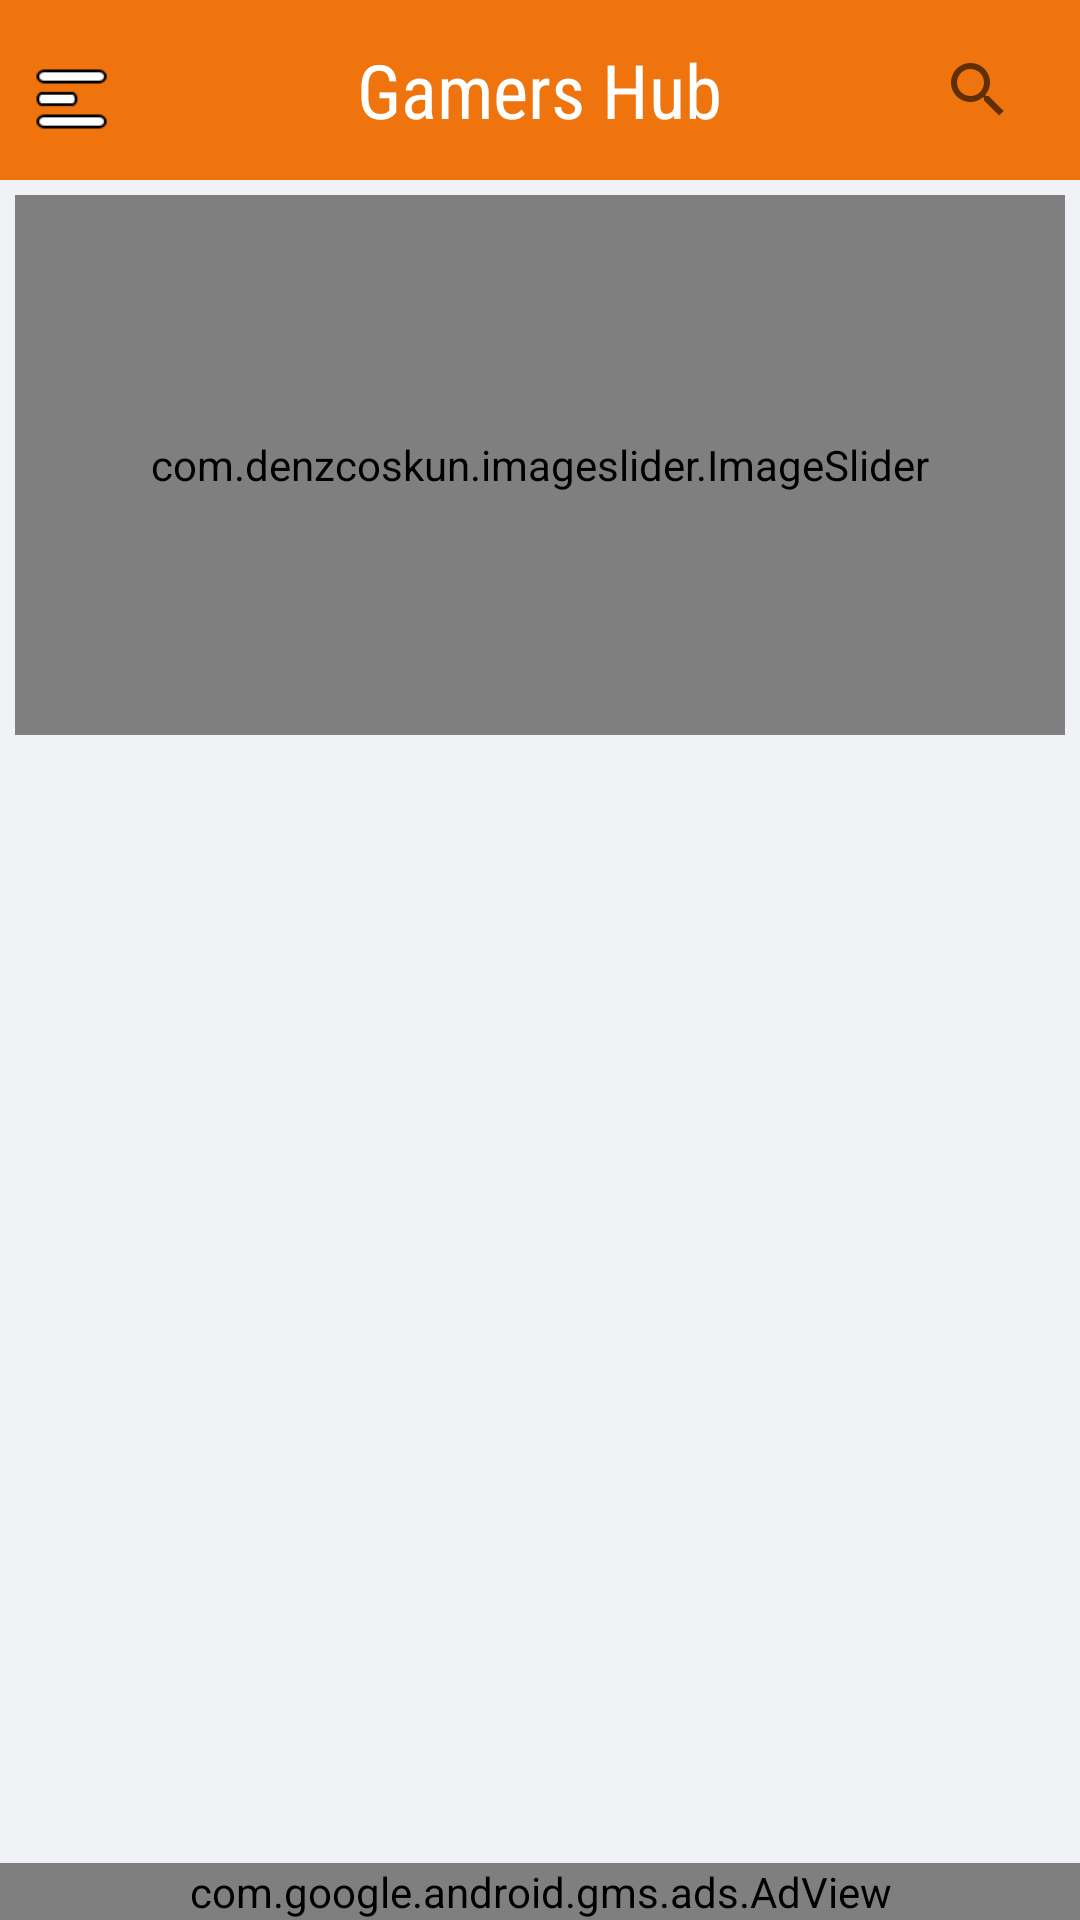

Icons on this 1080px x 1920px Android screen, each with its box as (x1, y1, x2, y2):
navigation: (36, 69, 107, 129)
